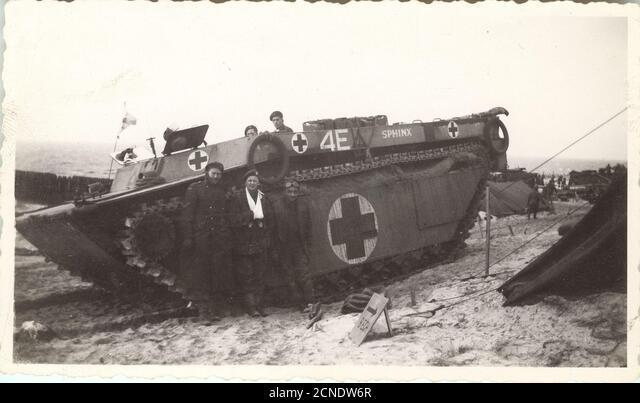person: (182, 161, 230, 320), (228, 171, 276, 317), (274, 181, 316, 315), (266, 110, 295, 134), (242, 125, 260, 138)
